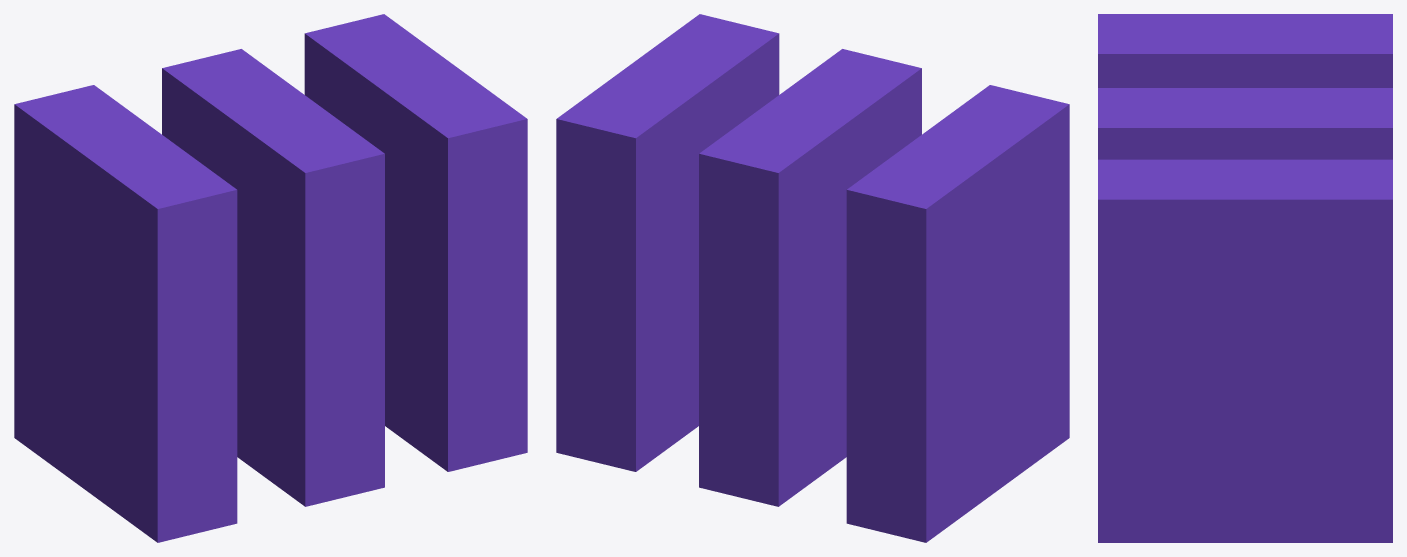
The model's file is queue.fbx.
3 views of the same model, side by side, from view 1: azimuth 30°, elevation 25°; view 2: azimuth 150°, elevation 25°; view 3: azimuth 270°, elevation 25° (orthographic). The views are drawn at different scales.
Parts seen in each view (by area): view 1: Cube; view 2: Cube; view 3: Cube.
Part boxes in pixels (<box>): Cube: <box>14,14,527,542</box>; Cube: <box>556,14,1069,542</box>; Cube: <box>1098,14,1392,542</box>.
Bounding box in the file's own units: 2.32 × 2 × 1.56.
